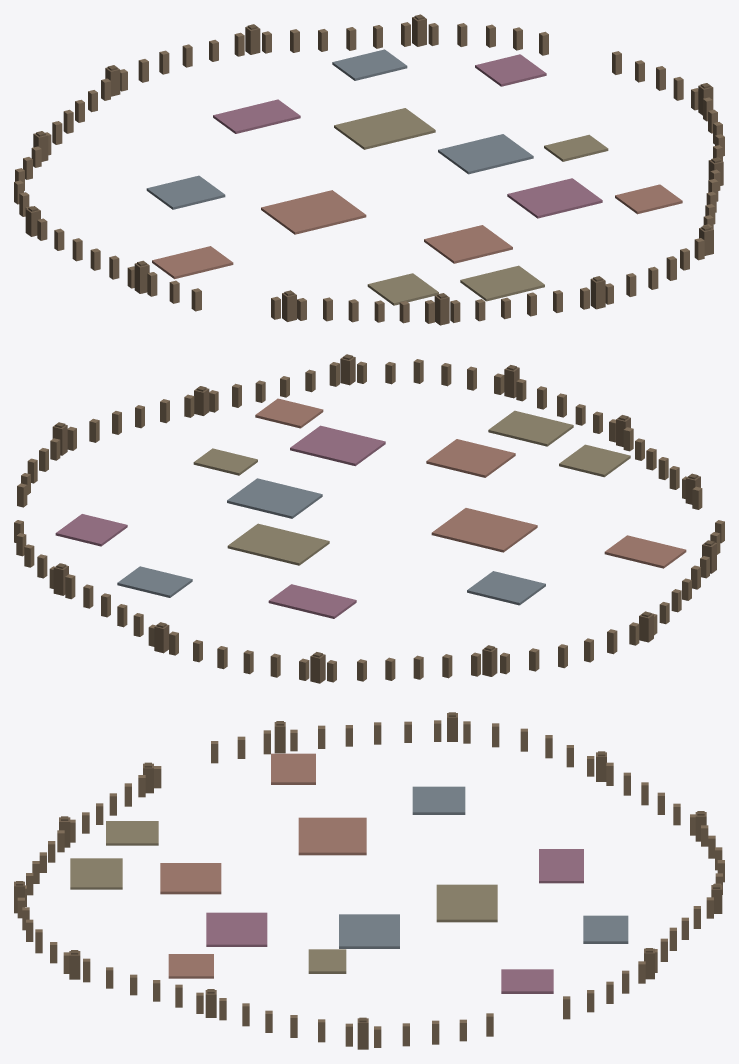
Rendered from ciudad_aldea_agricola_2799_1267_01.glb.
3 renders of one model, top to bottom at view 1: azimuth 30°, elevation 25°; view 2: azimuth 150°, elevation 25°; view 3: azimuth 270°, elevation 25°, orthographic.
Visible parts, largest first — view 1: ciudad_aldea_agricola_2799_1267; view 2: ciudad_aldea_agricola_2799_1267; view 3: ciudad_aldea_agricola_2799_1267.
Part boxes in pixels (x1,y1,x2,y2): ciudad_aldea_agricola_2799_1267: (14,14,724,325); ciudad_aldea_agricola_2799_1267: (14,354,724,683); ciudad_aldea_agricola_2799_1267: (14,712,724,1049).
Size of the model in its own units: 80.3 by 3.4 by 77.2.
